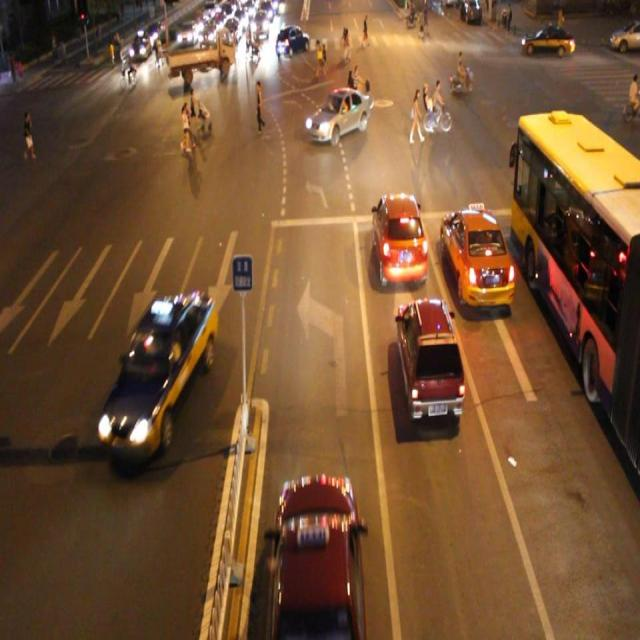bus: (168, 31, 235, 79)
car: (96, 291, 216, 457), (268, 475, 365, 640), (395, 297, 466, 422), (440, 204, 518, 308), (373, 192, 429, 288), (305, 87, 370, 143)
van: (511, 116, 640, 468)
